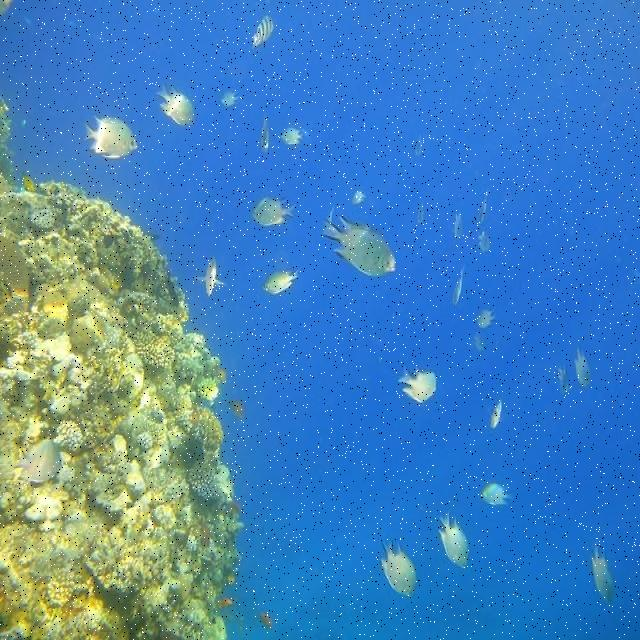fish: (321, 210, 397, 279), (83, 114, 139, 157), (381, 540, 416, 597), (438, 515, 470, 571), (157, 83, 196, 125), (399, 366, 437, 404), (590, 546, 613, 603), (195, 258, 225, 298), (254, 197, 295, 224), (250, 15, 276, 47), (480, 483, 513, 508), (264, 271, 301, 292)
reefs: (0, 99, 248, 639)
